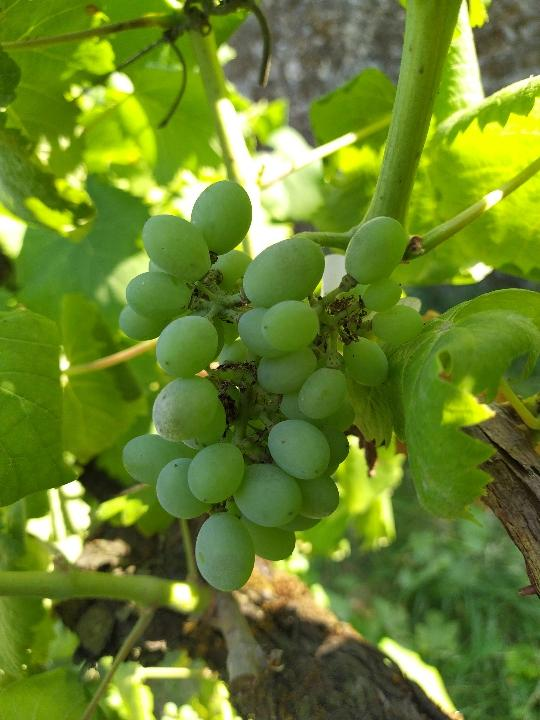grape: (112, 173, 429, 600)
